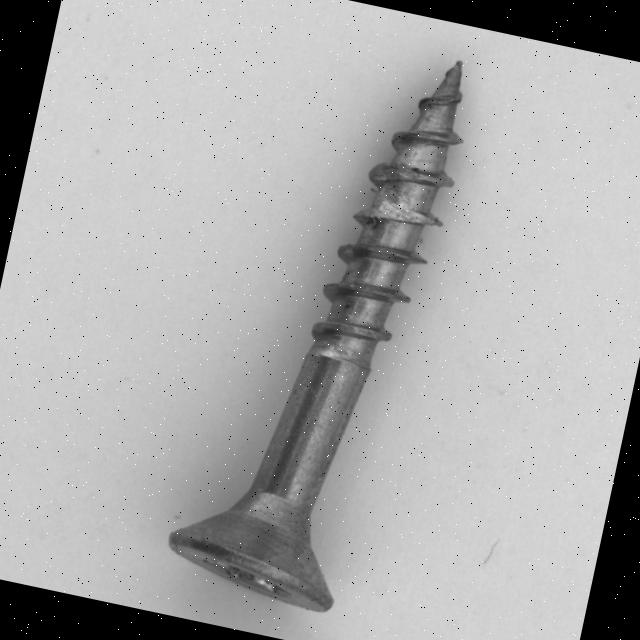thread_top: (355, 159, 425, 239)
